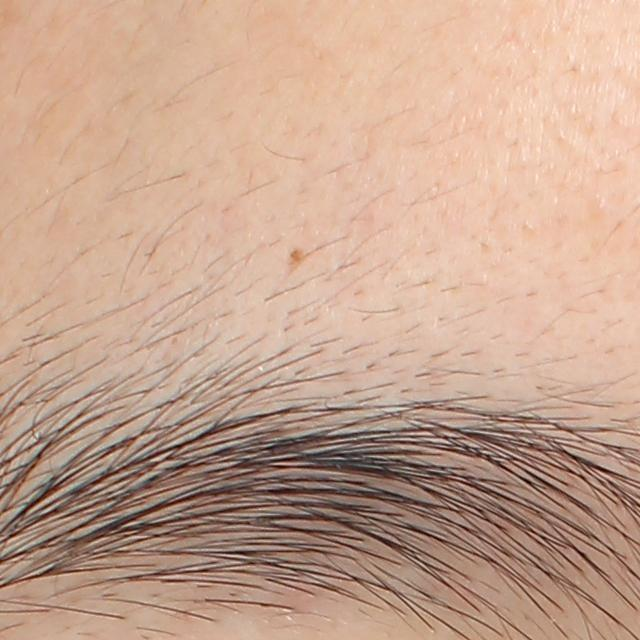nevus: (289, 247, 306, 265)
